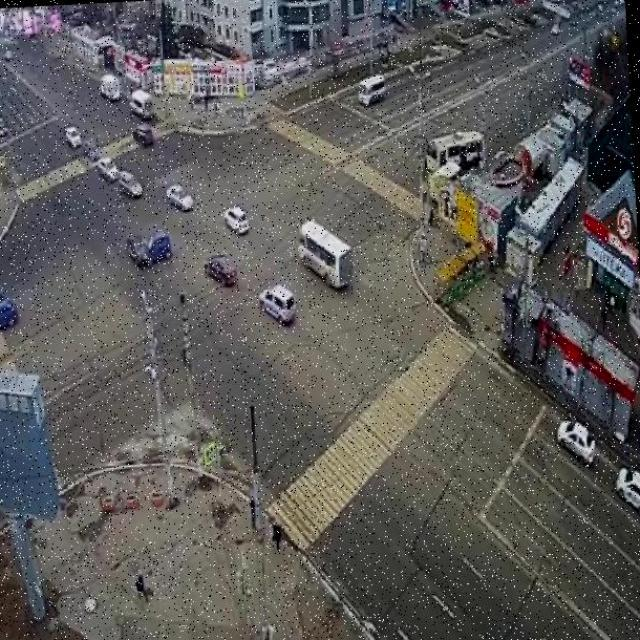accident: (114, 217, 182, 279)
